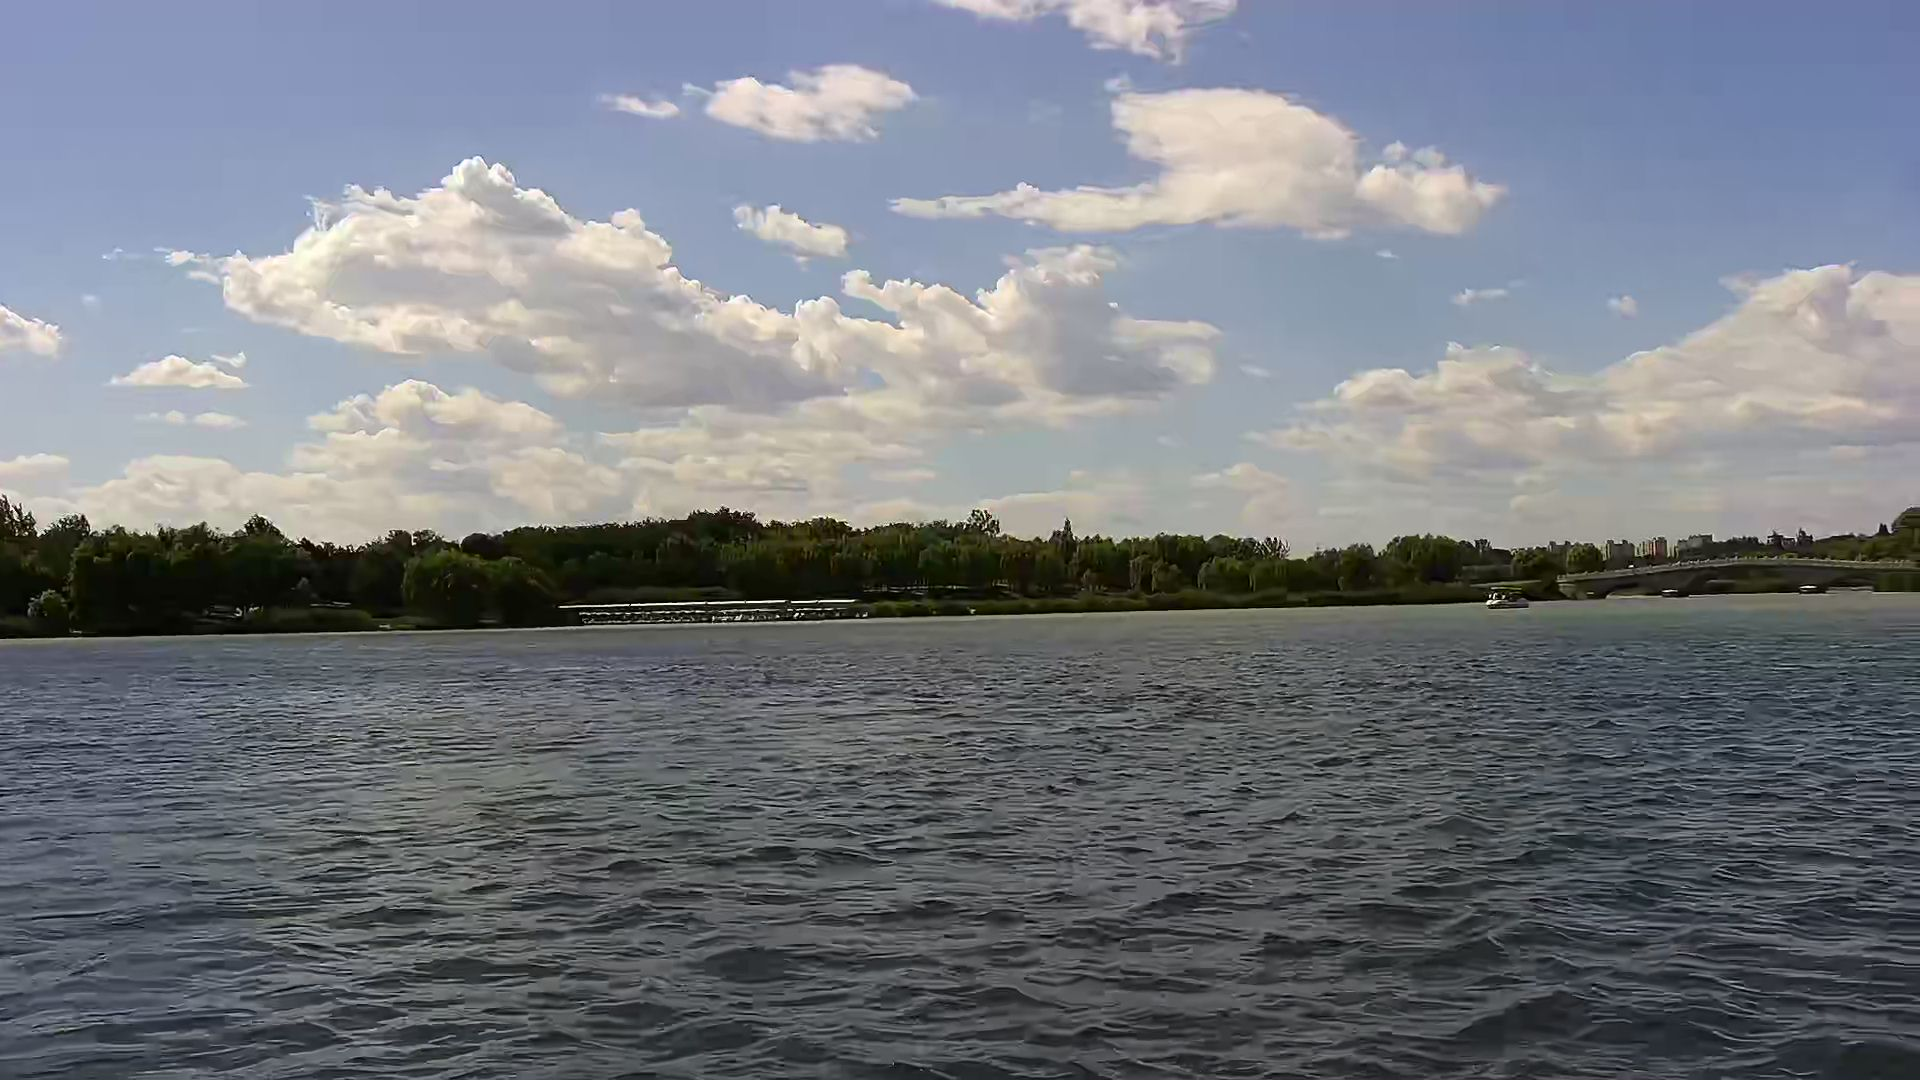boat: (1486, 585, 1528, 608)
bridge: (1563, 558, 1920, 593)
harbor: (566, 593, 866, 624)
